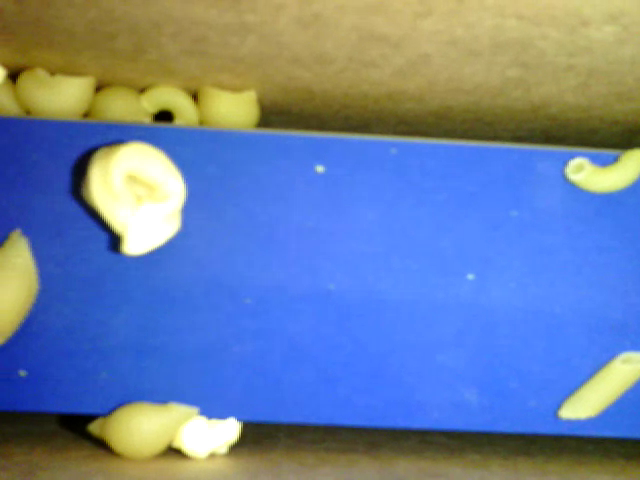elbow: (563, 146, 639, 193), (144, 83, 202, 127)
penne: (557, 350, 639, 421)
shell: (85, 401, 202, 459), (1, 225, 41, 352), (16, 68, 96, 118), (199, 79, 262, 127), (86, 86, 154, 123)
tortellini: (80, 137, 185, 256)
